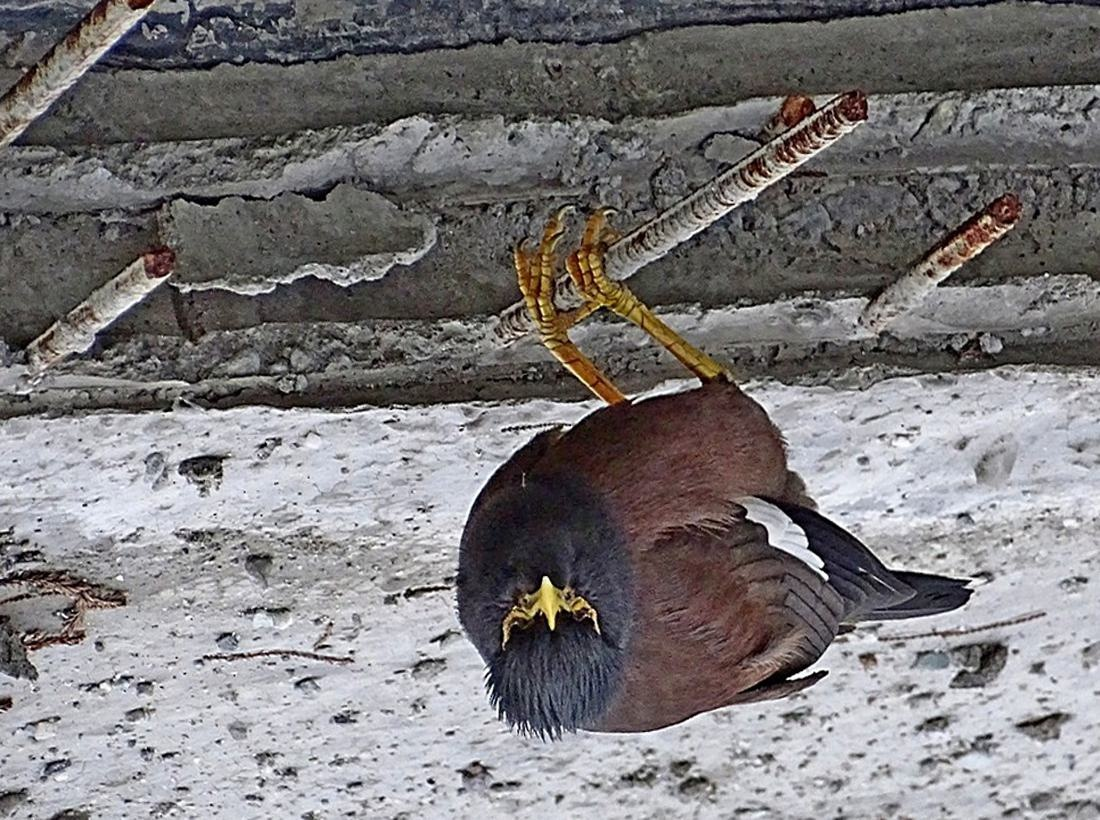myna: (462, 159, 874, 774)
